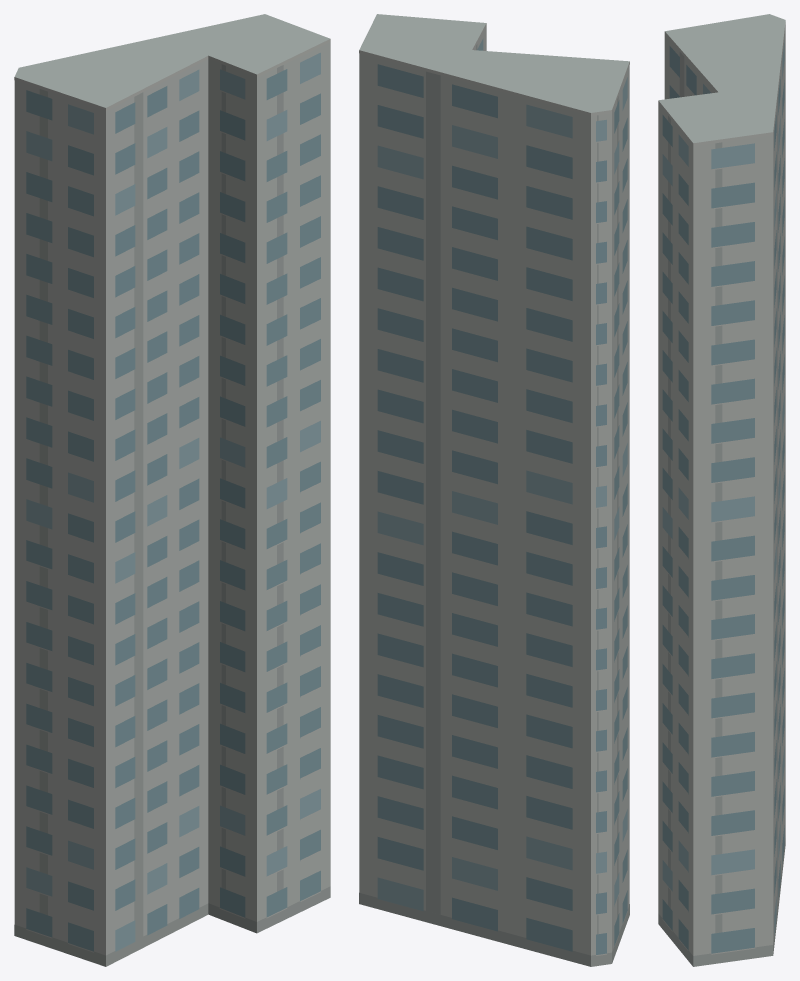
The model's file is survey-upis-32761719.glb.
3 views of the same model, side by side, from view 1: azimuth 30°, elevation 25°; view 2: azimuth 150°, elevation 25°; view 3: azimuth 270°, elevation 25° (orthographic). The views are drawn at different scales.
Parts seen in each view (by area): view 1: survey-upis-32761719.tmp; view 2: survey-upis-32761719.tmp; view 3: survey-upis-32761719.tmp.
Boxes of the visible parts, box(x1,y1,x2,y2) form: survey-upis-32761719.tmp: box(14, 14, 330, 966); survey-upis-32761719.tmp: box(359, 14, 629, 966); survey-upis-32761719.tmp: box(658, 14, 785, 966).
Size of the model in its own units: 21.56 by 64.05 by 8.99.
